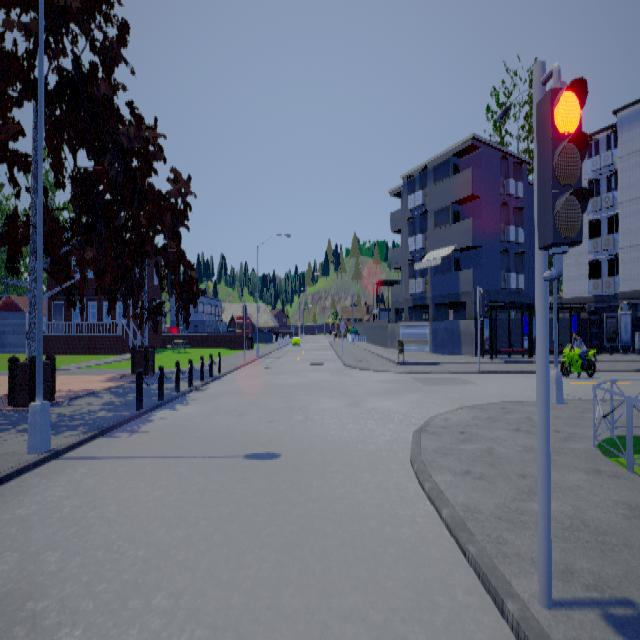red_light: (535, 61, 589, 280)
vehicle: (559, 334, 597, 376)
